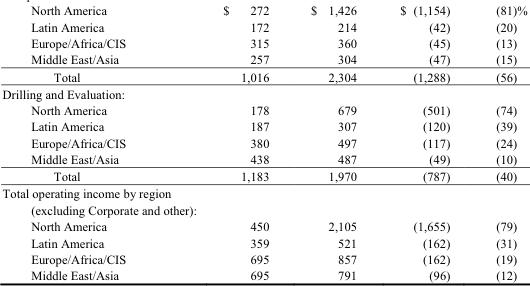table: (1, 1, 526, 283)
table column: (1, 1, 173, 283), (173, 1, 289, 283), (377, 1, 472, 283), (289, 1, 377, 283), (472, 1, 526, 283)
table column header: (1, 1, 526, 18)
table projected row header: (1, 84, 526, 101), (1, 184, 526, 201), (1, 201, 526, 217)
table row: (1, 1, 526, 18), (1, 50, 526, 67), (1, 67, 526, 84), (1, 84, 526, 101), (1, 117, 526, 134), (1, 150, 526, 167), (1, 167, 526, 184), (1, 184, 526, 201), (1, 233, 526, 250), (1, 266, 526, 283), (1, 18, 526, 34), (1, 34, 526, 50), (1, 101, 526, 117), (1, 134, 526, 150), (1, 201, 526, 217), (1, 217, 526, 233), (1, 250, 526, 266)
